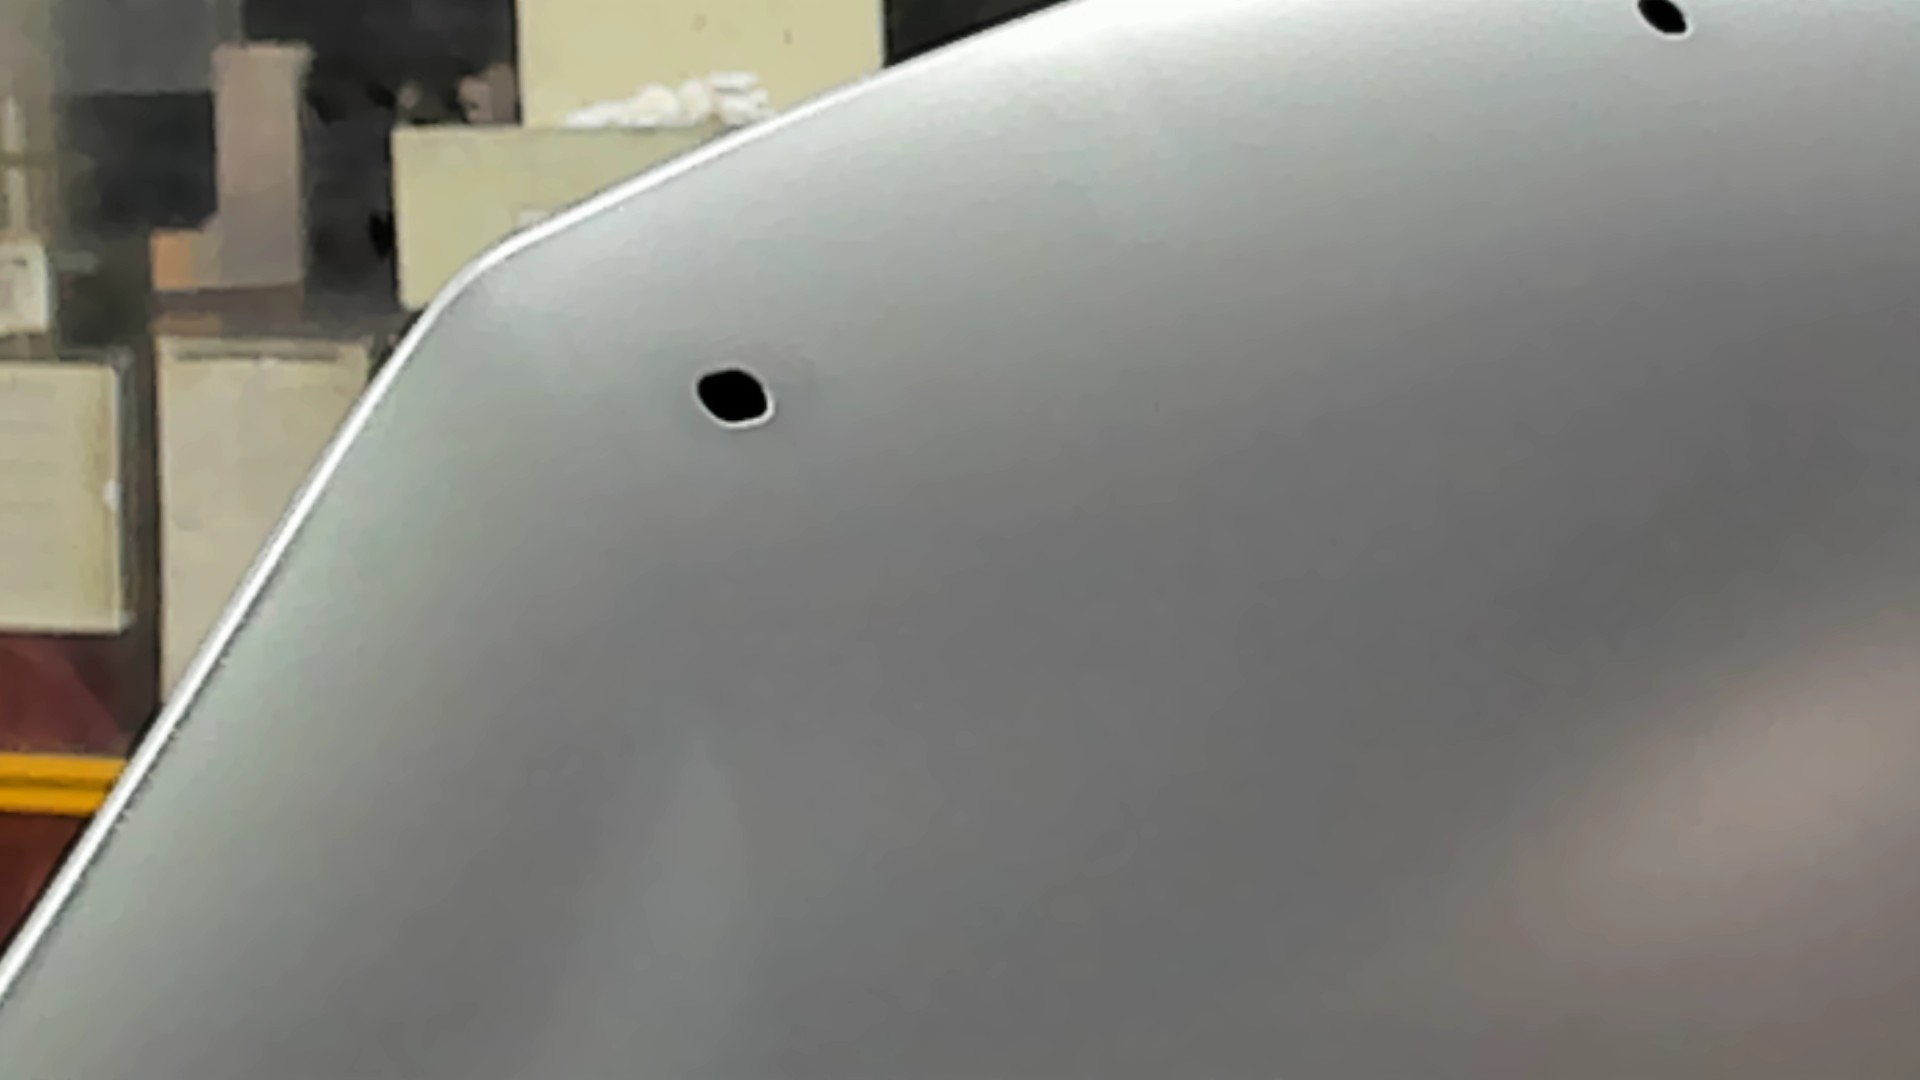amorfo: (691, 364, 787, 435), (1630, 1, 1704, 40)
capo: (868, 98, 1920, 1080)
